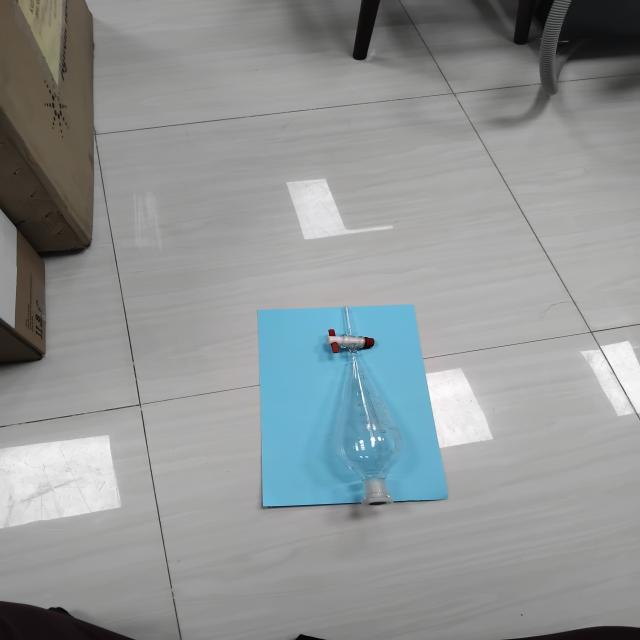Separating_Funnel: (296, 278, 445, 530)
